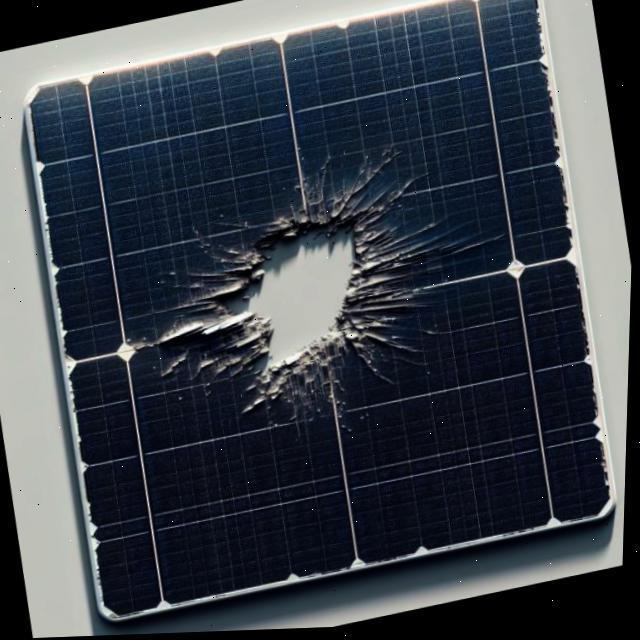Anomaly Solar Panel: (26, 0, 620, 623)
Structural Damage: (150, 139, 516, 434)
